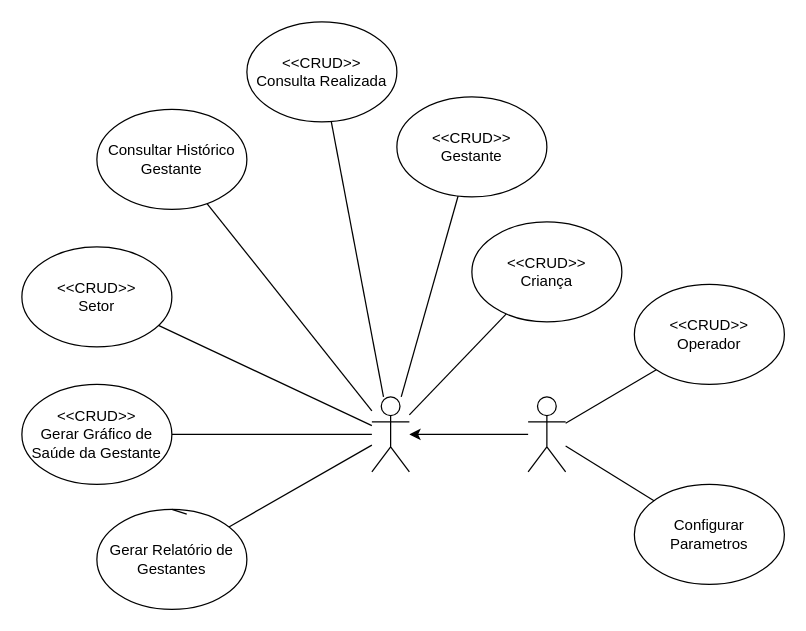
This 806x631 diagram has some shape labels left out. The shapes that lost their labels are listed below. From the top down, each one's box as (x1, y1, x2, y2) in pixels, then its label:
(371, 396, 409, 472): Profissional de Saúde
(527, 396, 566, 472): Admin
